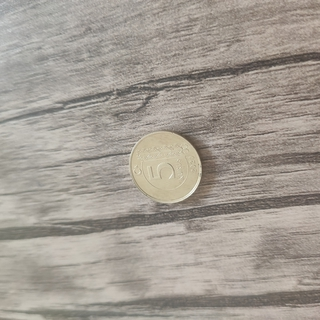5KURUS: (127, 129, 204, 205)
